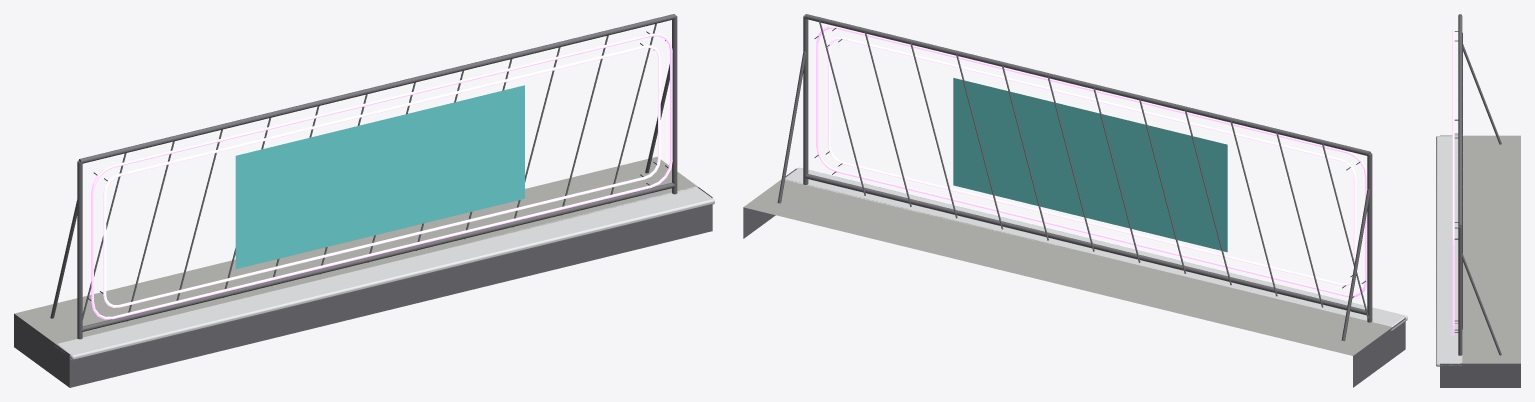
Rendered from retro_cap_neon_8.glb.
The picture shows the model from 3 angles, left to right: view 1: azimuth 30°, elevation 25°; view 2: azimuth 150°, elevation 25°; view 3: azimuth 270°, elevation 25°; orthographic projection. The views are drawn at different scales.
Visible parts, largest first — view 1: retro_cap_neon_8; view 2: retro_cap_neon_8; view 3: retro_cap_neon_8.
Part boxes in pixels (<box>): retro_cap_neon_8: <box>14,14,714,387</box>; retro_cap_neon_8: <box>743,14,1407,387</box>; retro_cap_neon_8: <box>1436,14,1520,387</box>.
Bounding box in the file's own units: 8 × 2.53 × 1.26.
